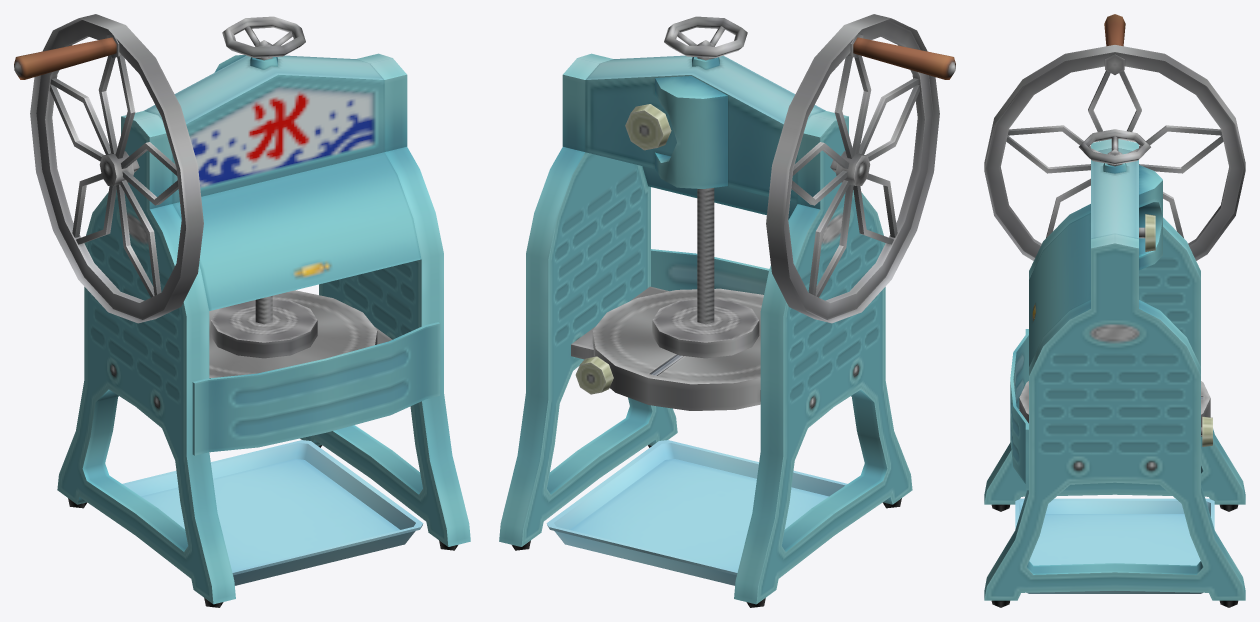
File: jsf_ShavedIceMachine_01.fbx
3 views of the same model, side by side, from view 1: azimuth 30°, elevation 25°; view 2: azimuth 150°, elevation 25°; view 3: azimuth 270°, elevation 25° (orthographic). The views are drawn at different scales.
Parts seen in each view (by area): view 1: Body, Handle_01, Tray, Handle_02; view 2: Body, Handle_01, Tray, Handle_02, Dial_01, Dial_02; view 3: Body, Handle_01, Tray, Handle_02, Dial_01.
Boxes of the visible parts, x1,y1,x2,y2 form: Body: (57,53,470,607); Handle_01: (14,14,203,323); Tray: (122,440,423,585); Handle_02: (210,16,317,358); Body: (499,53,912,607); Handle_01: (766,14,955,323); Tray: (546,440,847,585); Handle_02: (652,16,759,358); Dial_01: (625,104,671,150); Dial_02: (575,356,613,394); Body: (984,139,1245,607); Handle_01: (984,14,1245,260); Tray: (1015,498,1214,593); Handle_02: (1079,129,1150,166); Dial_01: (1139,214,1155,251).
Size of the model in its own units: 50.42 by 68 by 36.01.
